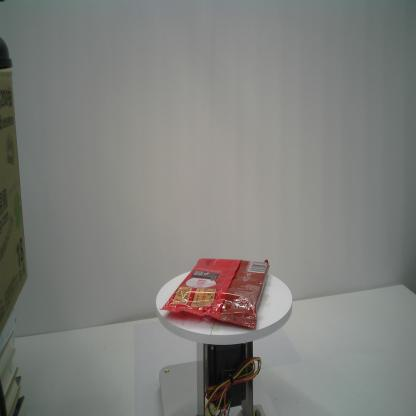Dessert: (158, 258, 270, 329)
